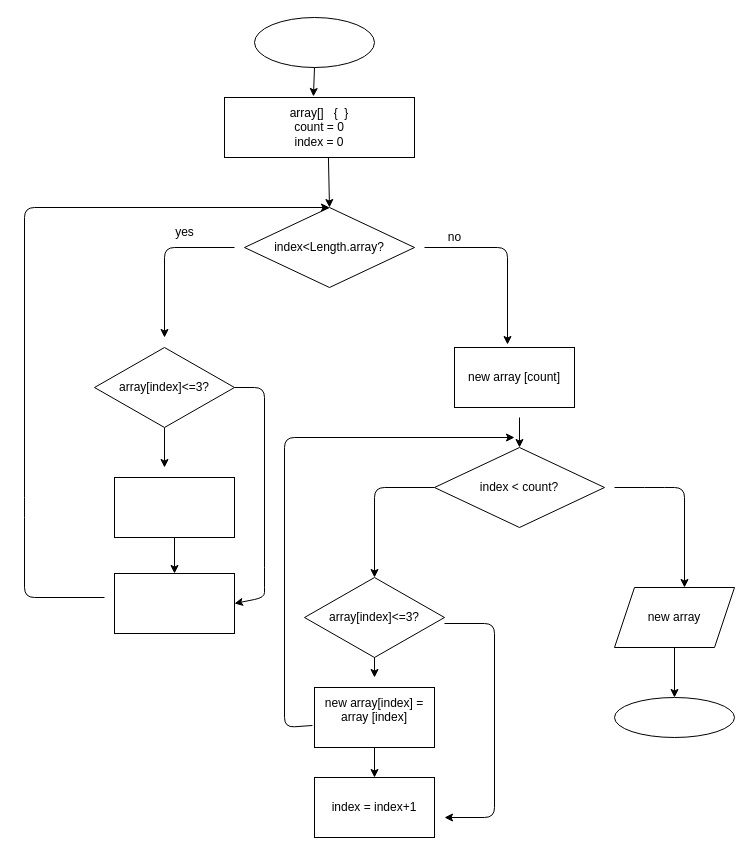
Image size: 752x855. Some labels were removed from this diagram. Each missing label, with the box of its shape:
count = count+1: (114, 476, 234, 538)
finish: (614, 696, 734, 738)
i ndex = index + 1: (114, 572, 234, 634)
start: (254, 16, 374, 68)
